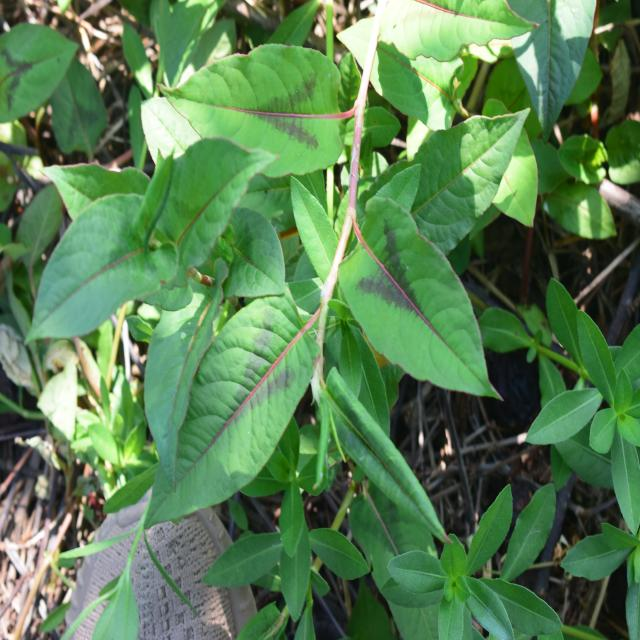Chinese_knotweed: (184, 51, 500, 496)
